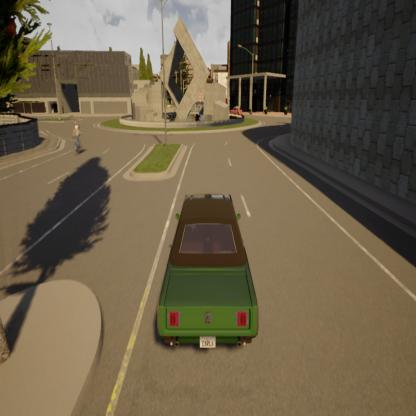Cars: (152, 189, 264, 361)
